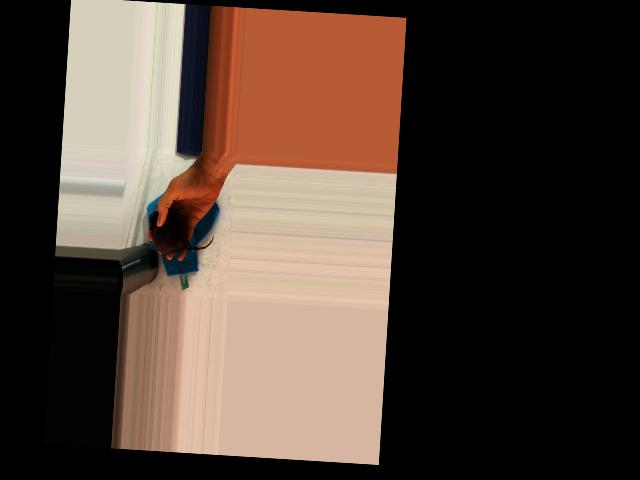beet: (147, 206, 215, 257)
